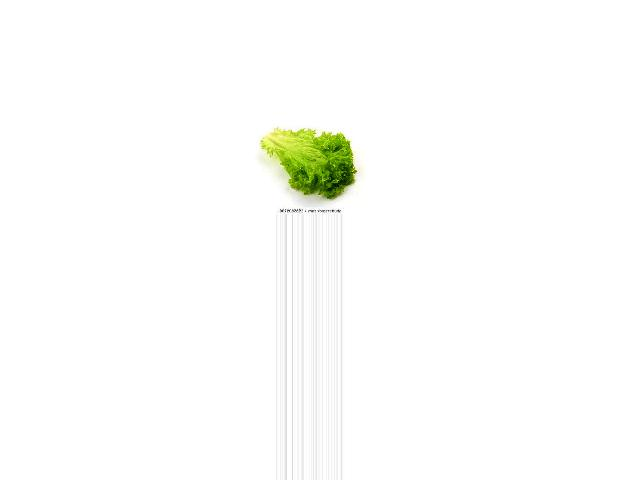lettuce: (261, 125, 360, 198)
